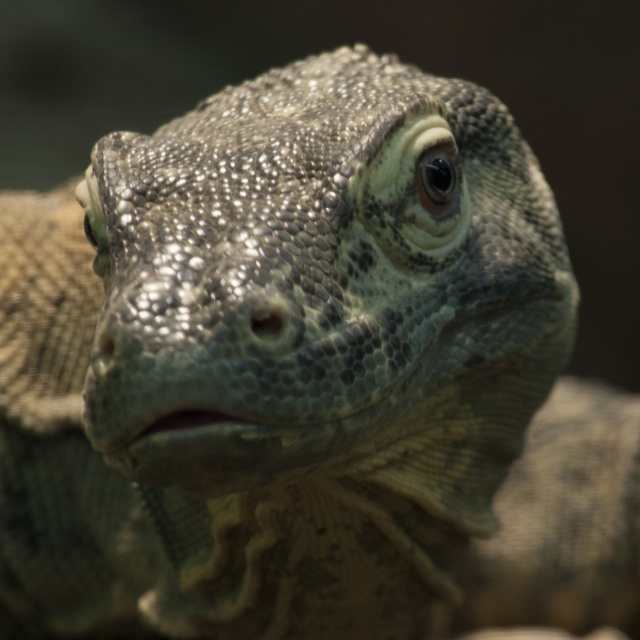Lizard: (0, 40, 640, 640)
